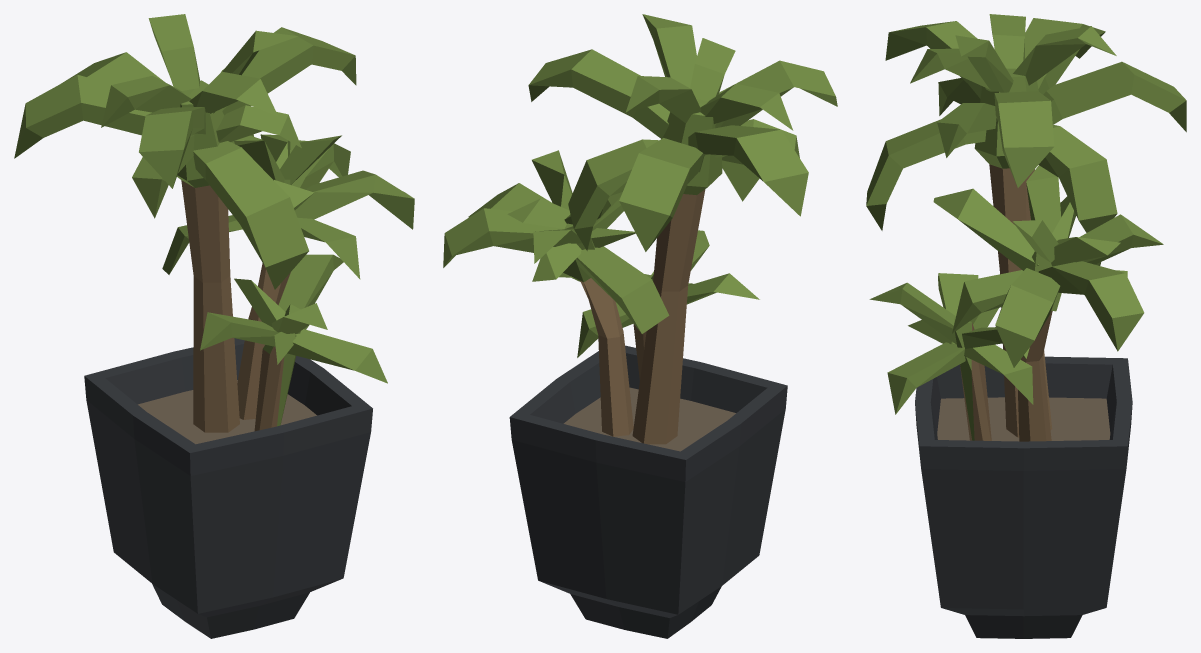
Rendered from SM_Prop_Plant_04.glb.
3 views of the same model, side by side, from view 1: azimuth 30°, elevation 25°; view 2: azimuth 150°, elevation 25°; view 3: azimuth 270°, elevation 25° (orthographic). The views are drawn at different scales.
Parts seen in each view (by area): view 1: SM_Prop_Plant_04; view 2: SM_Prop_Plant_04; view 3: SM_Prop_Plant_04.
Boxes of the visible parts, bbox=[...] form: SM_Prop_Plant_04: bbox=[14, 14, 414, 638]; SM_Prop_Plant_04: bbox=[443, 14, 837, 638]; SM_Prop_Plant_04: bbox=[866, 14, 1186, 638].
Bounding box in the file's own units: 0.7546 × 1.16 × 0.578.
1 material, 1 textured.
